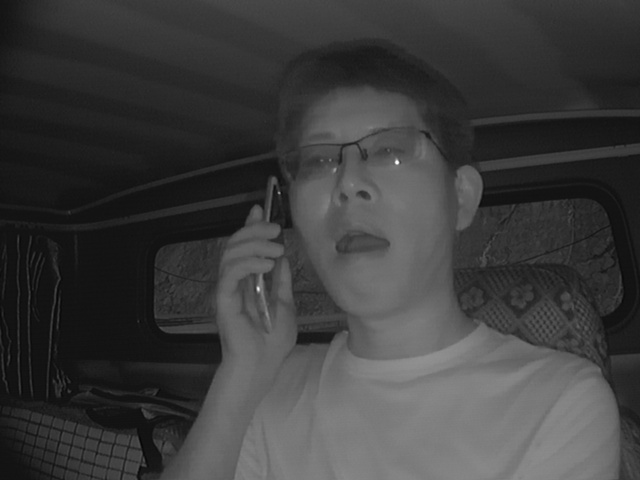hand: (207, 212, 301, 367)
